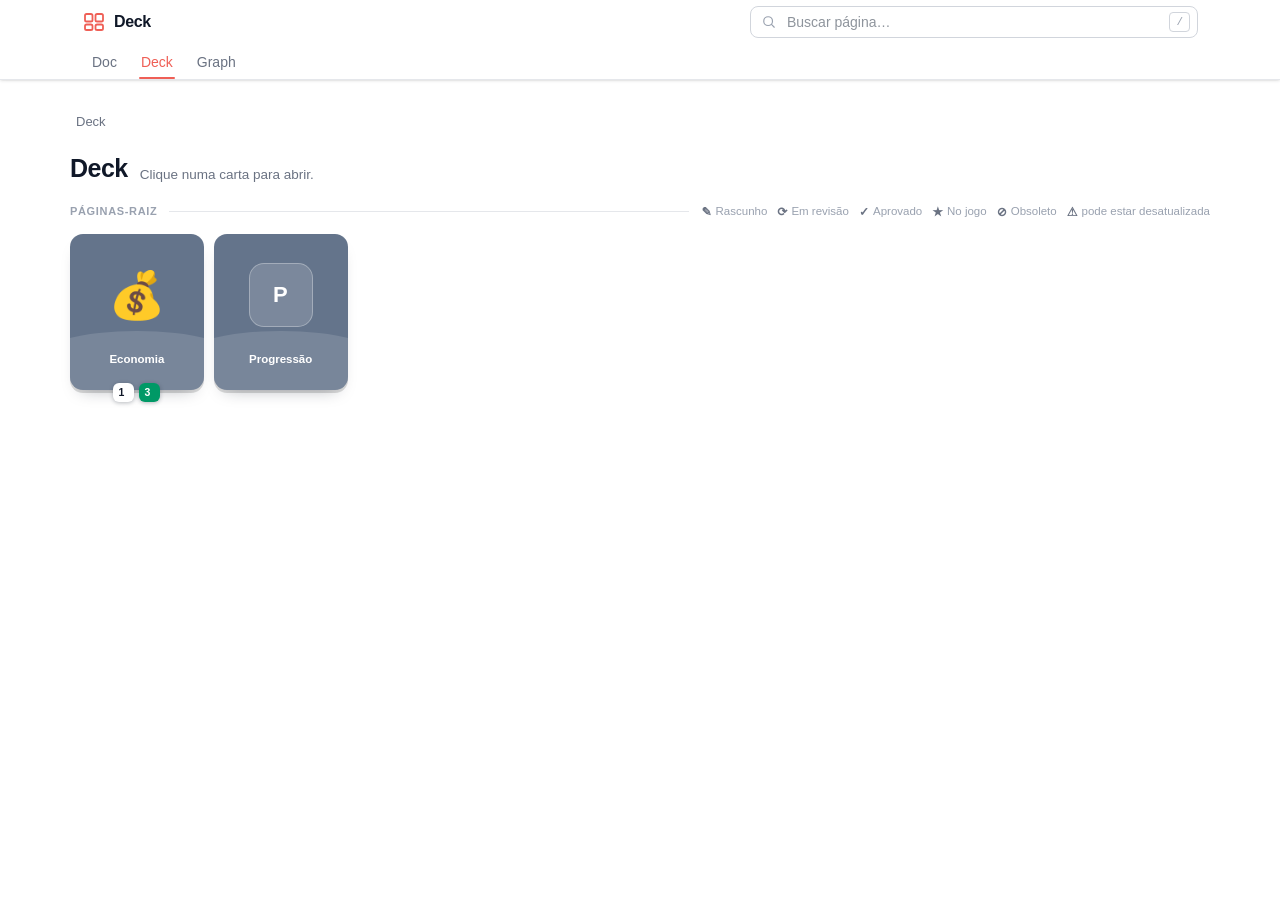
Test: acha a página sem acento e abre os níveis até ela no modo público
This screenshot has width=1280, height=900.
Step 1. Press /
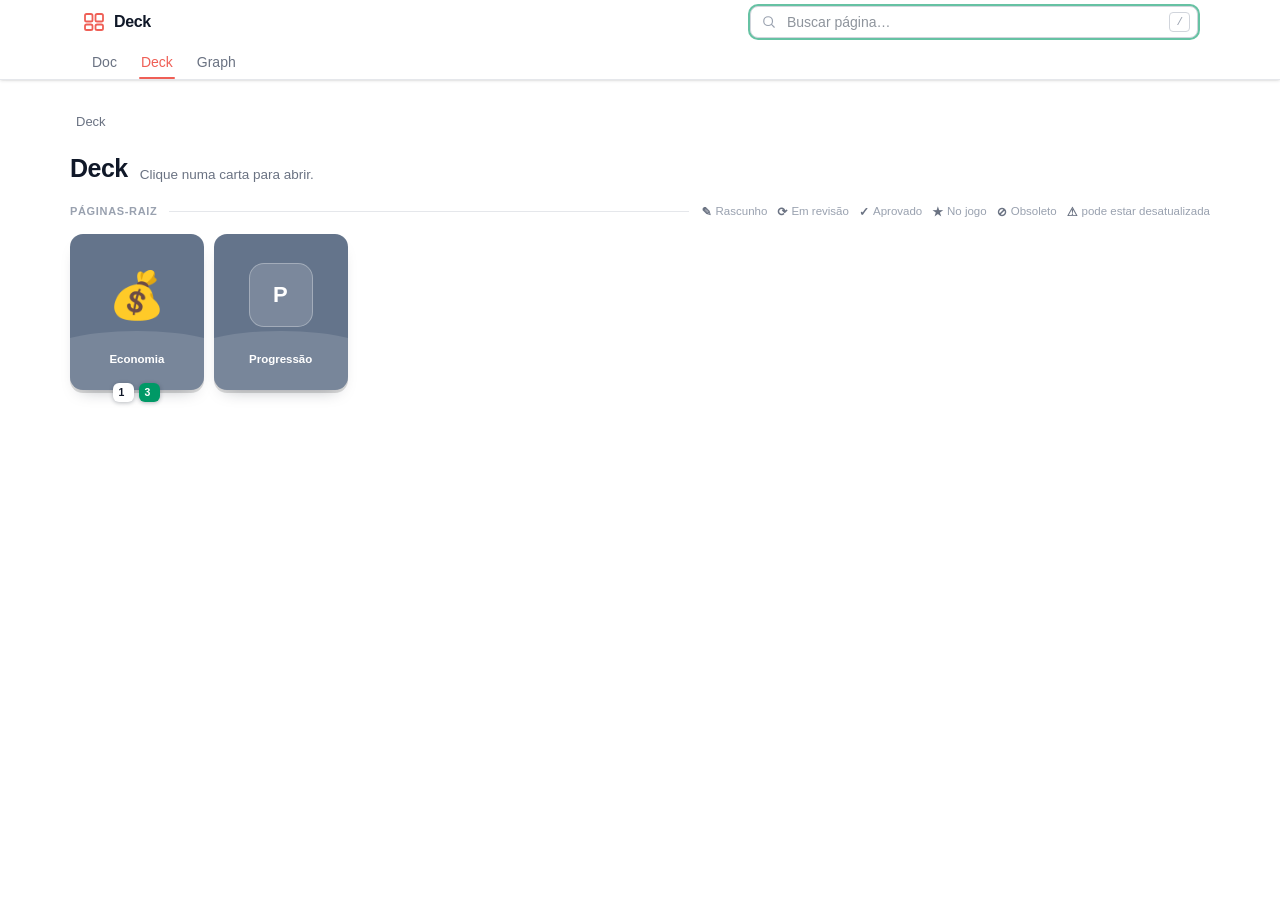
Step 2. Type "promocao" into the dropdown with placeholder "Buscar página…" → (974,22), box [750,6,1198,38]
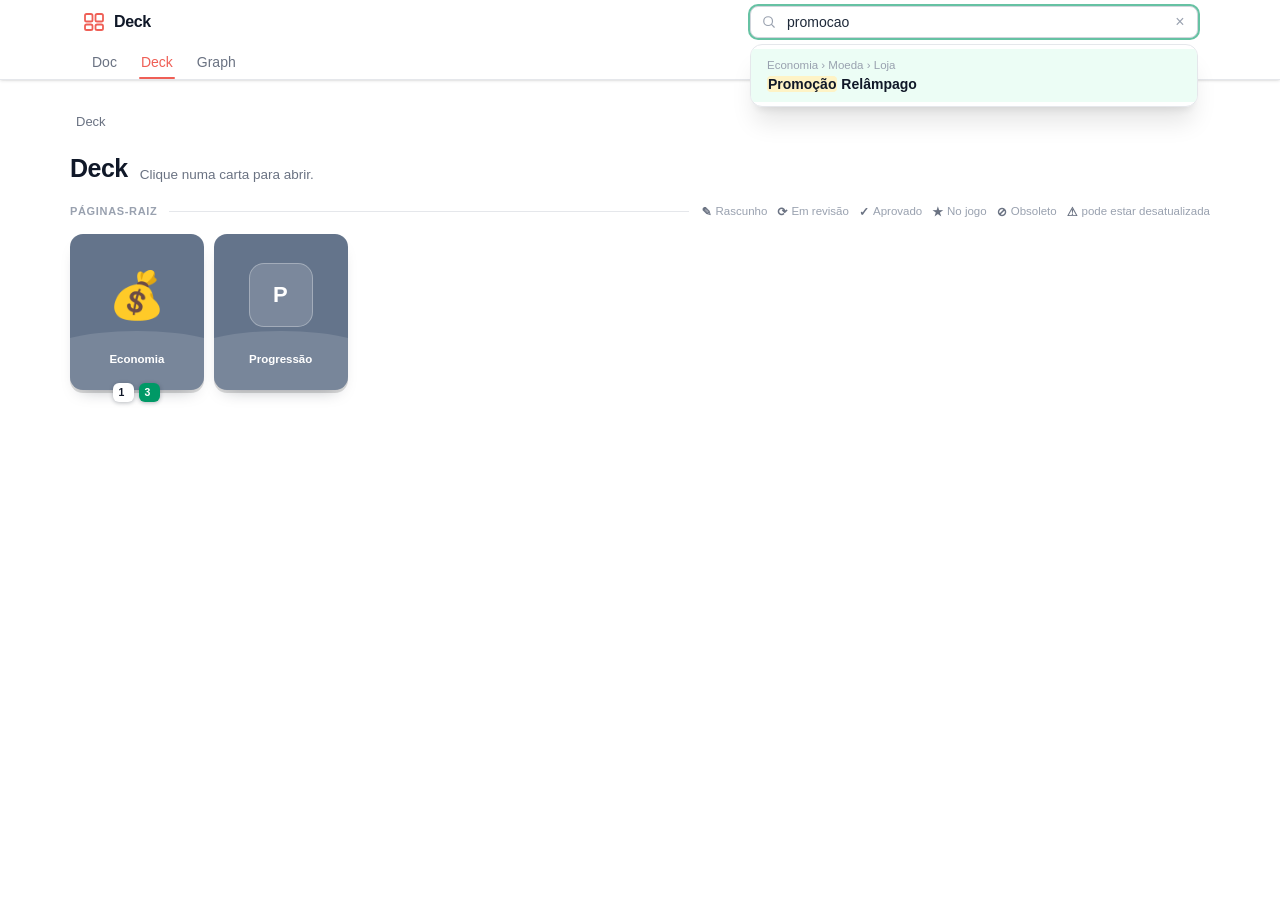
Expected: the option shows "Economia › Moeda › Loja", [751,48,1197,102]
Expected: the option shows "Promoção Relâmpago", [751,48,1197,102]
Step 3. Press Enter in the dropdown with placeholder "Buscar página…", box [750,6,1198,38]
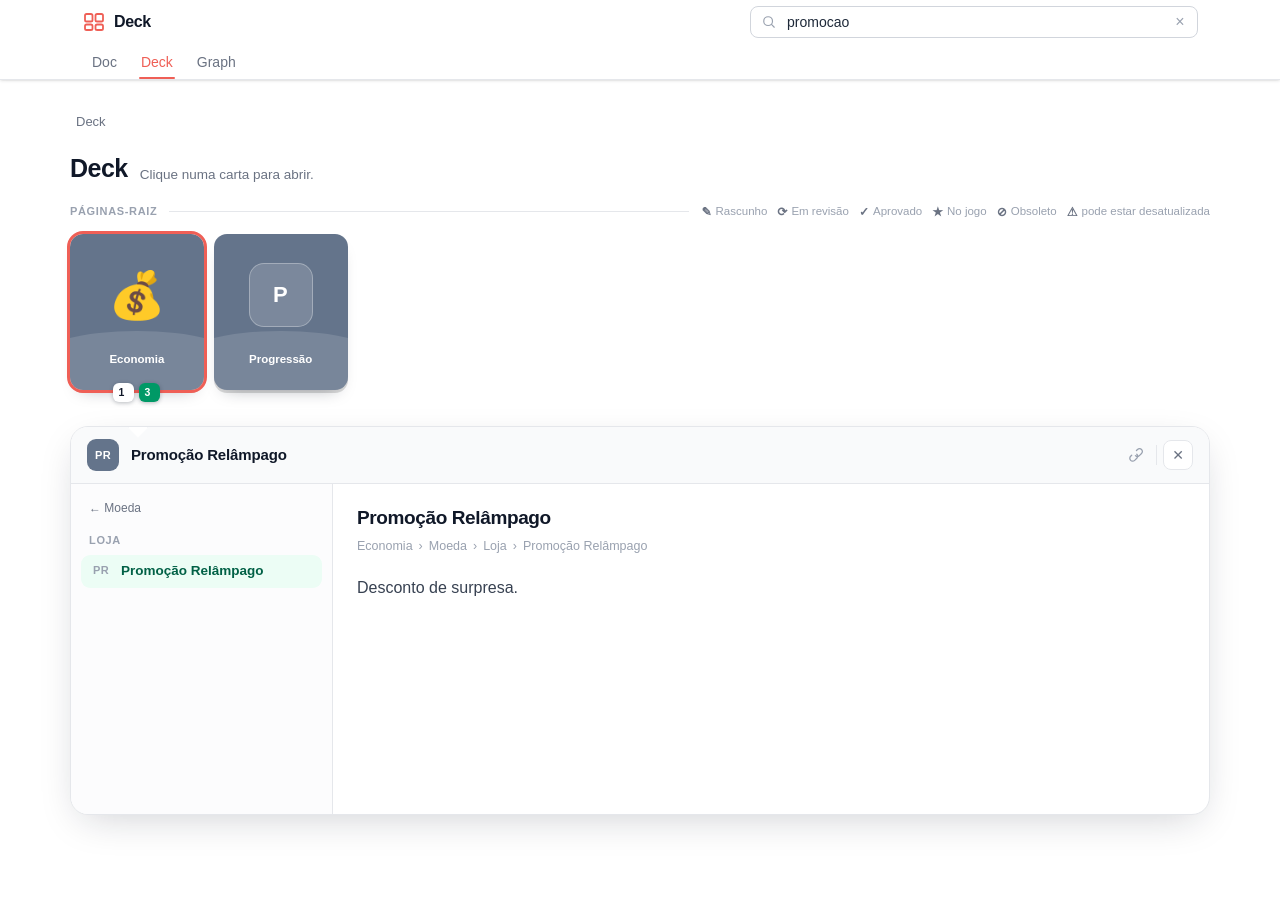
Expected: the text "Desconto de surpresa." is shown, [357,578,518,596]
Expected: the list is gone
